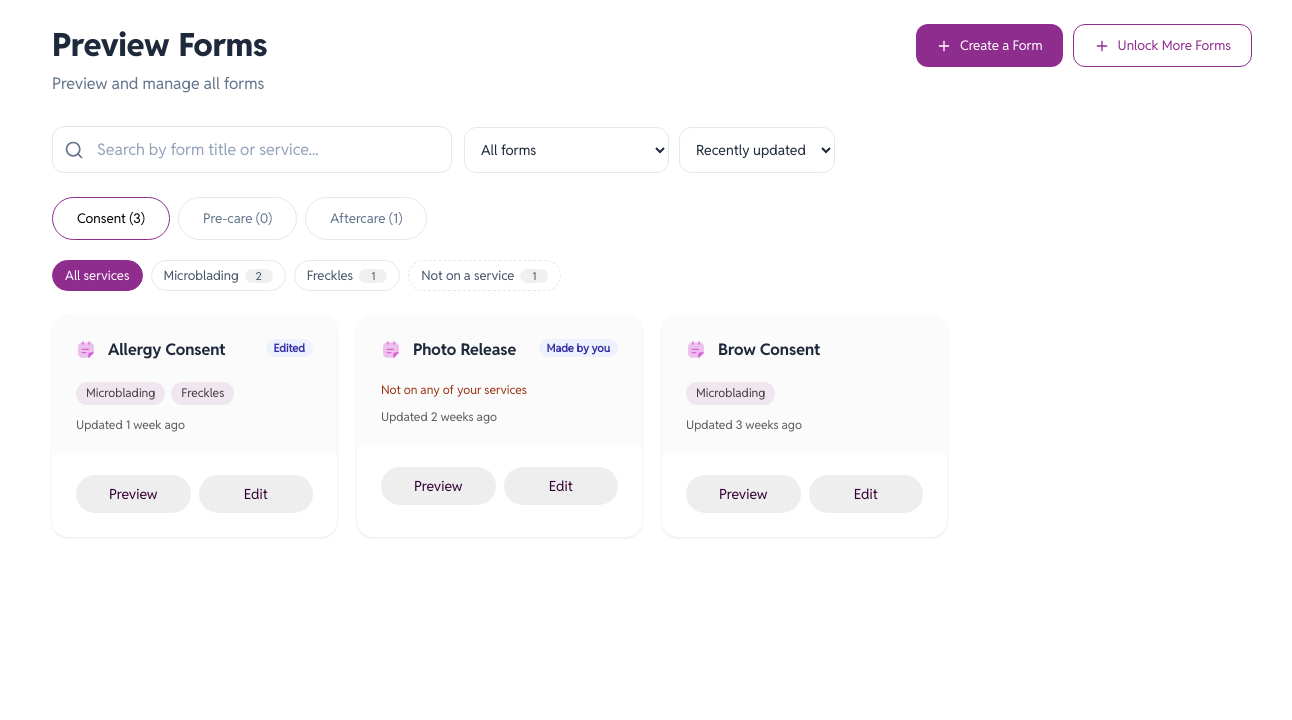
Forms page › searches by service name too, and updates the tab counts
The width and height of the screenshot is (1292, 720).
expect the heading "Brow Consent" is shown: met, box [718, 339, 820, 361]
Type "freck" into the search field named "Search forms by title or service".
click(252, 150); type("freck")  # box [52, 126, 452, 173]
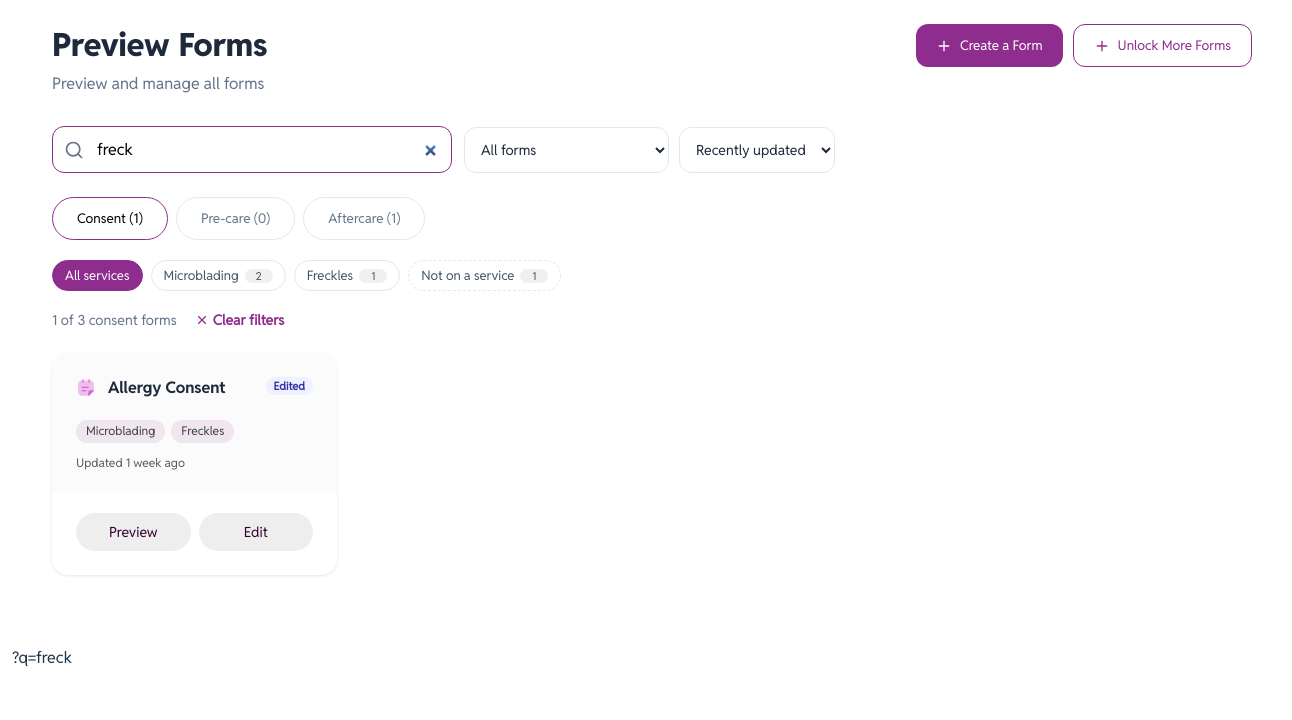
expect the tab "Aftercare (1)" is shown: met, box [303, 197, 425, 240]
expect the tab "Consent (1)" is shown: met, box [52, 197, 168, 240]
